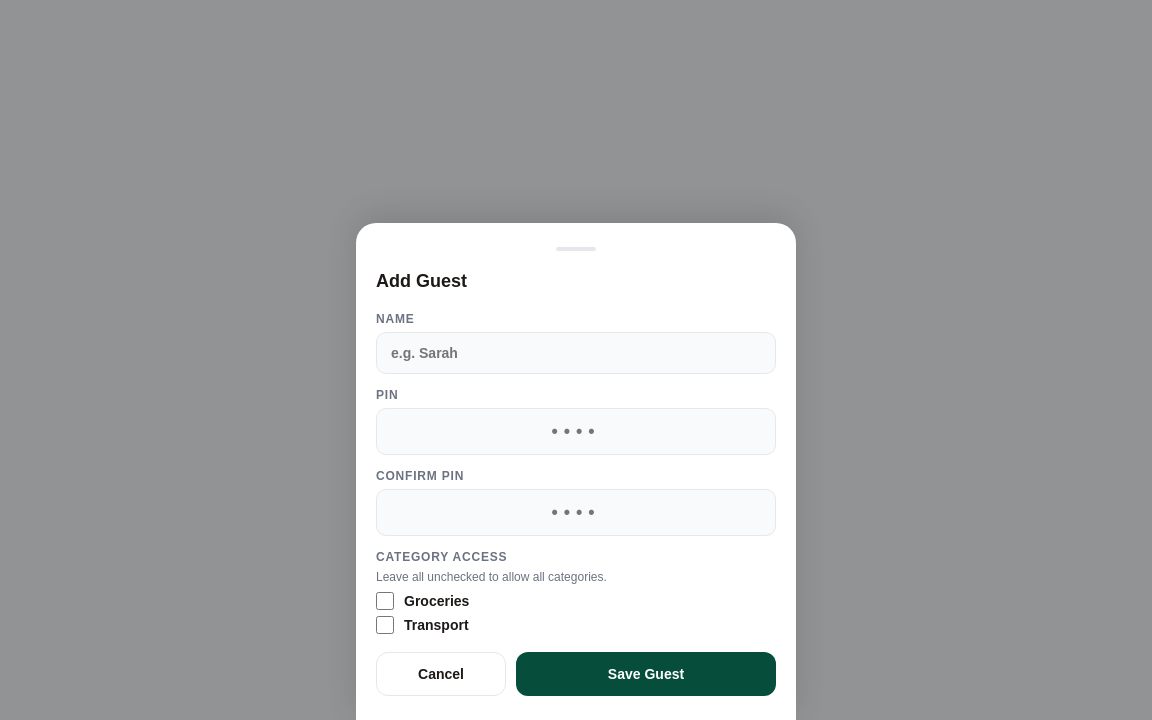
Test case: AddGuestSheet › shows validation error when PIN is missing (create mode)
Type "Sarah" into the field with test id "add-guest-name" at coordinates (576, 353), box x1=376 y1=332 x2=776 y2=374
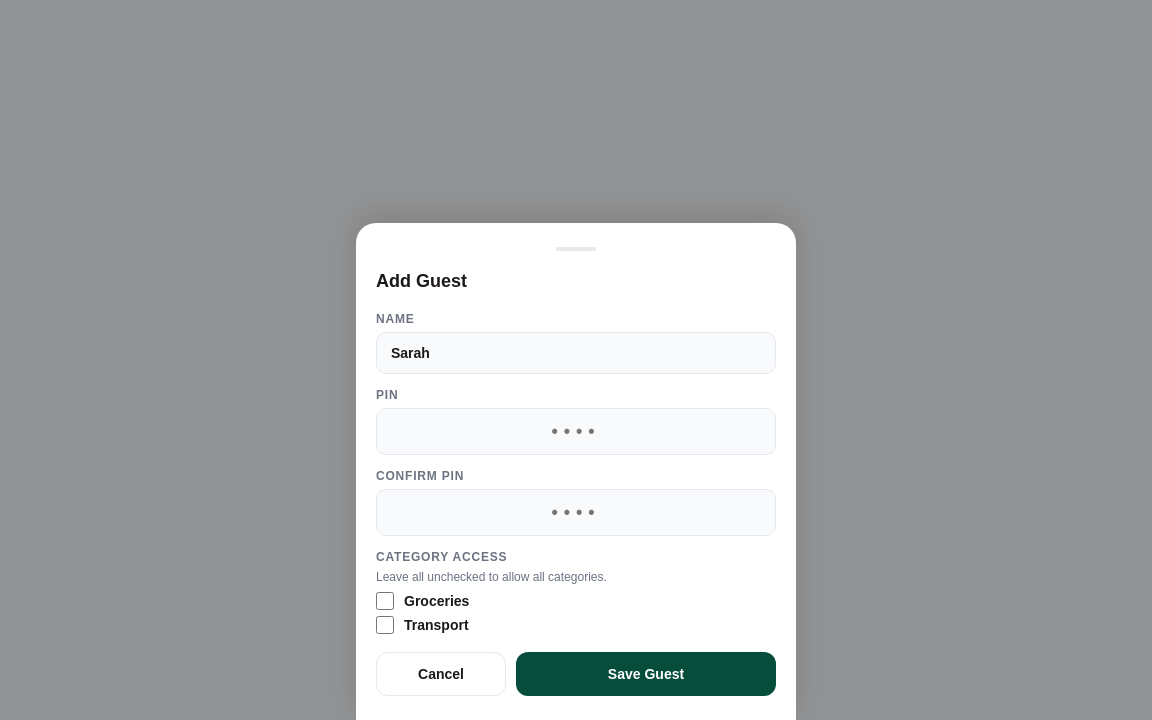
Click the button with test id "add-guest-save-btn" at coordinates (646, 674), box x1=516 y1=652 x2=776 y2=696
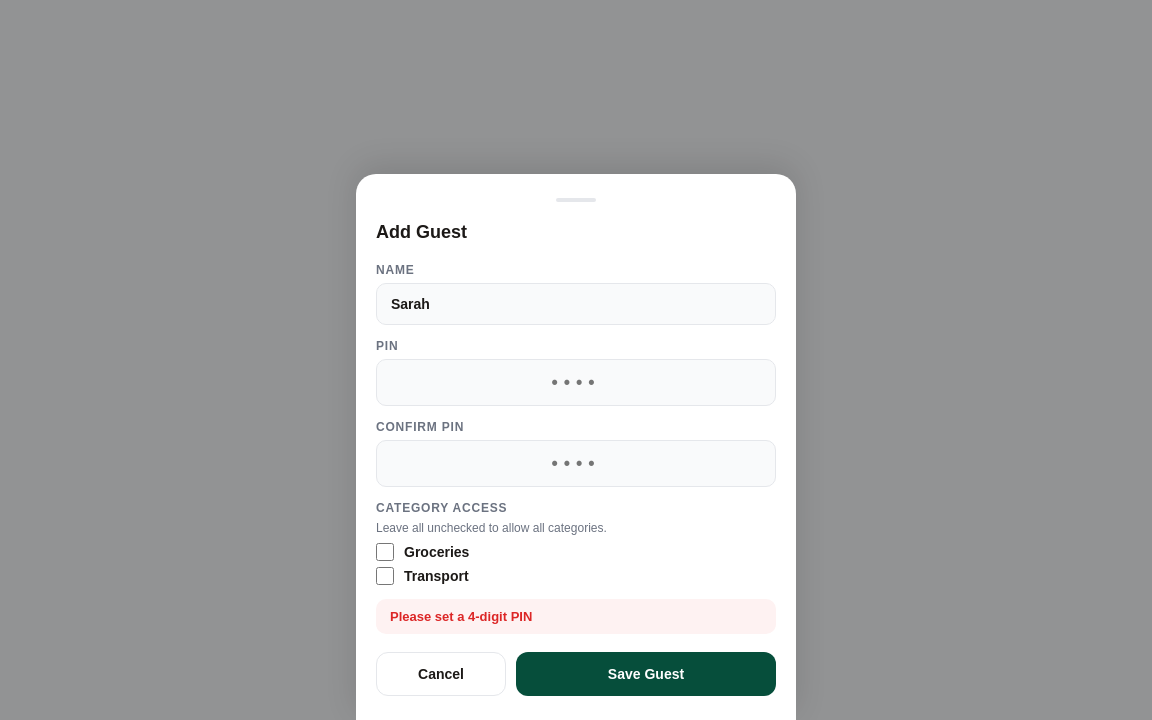
Expected: the text "Please set a 4-digit PIN" is shown, x1=390 y1=609 x2=532 y2=624
